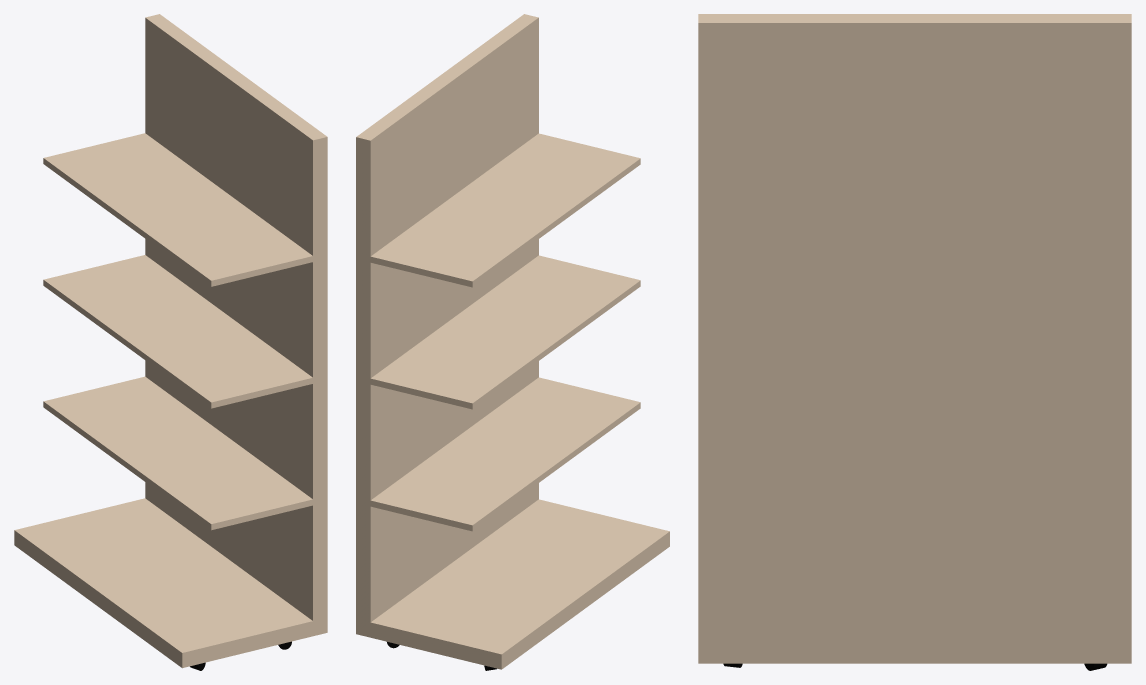
File: wrs_fcsc_display_case.dae
The picture shows the model from 3 angles, left to right: view 1: azimuth 30°, elevation 25°; view 2: azimuth 150°, elevation 25°; view 3: azimuth 270°, elevation 25°; orthographic projection. The views are drawn at different scales.
Parts seen in each view (by area): view 1: G-__555564; view 2: G-__555564; view 3: G-__555564.
Part boxes in pixels (x1,y1,x2,y2): G-__555564: (14,14,327,668); G-__555564: (356,14,669,669); G-__555564: (698,14,1131,663).
Size of the model in its own units: 0.5 by 1 by 1.69.
